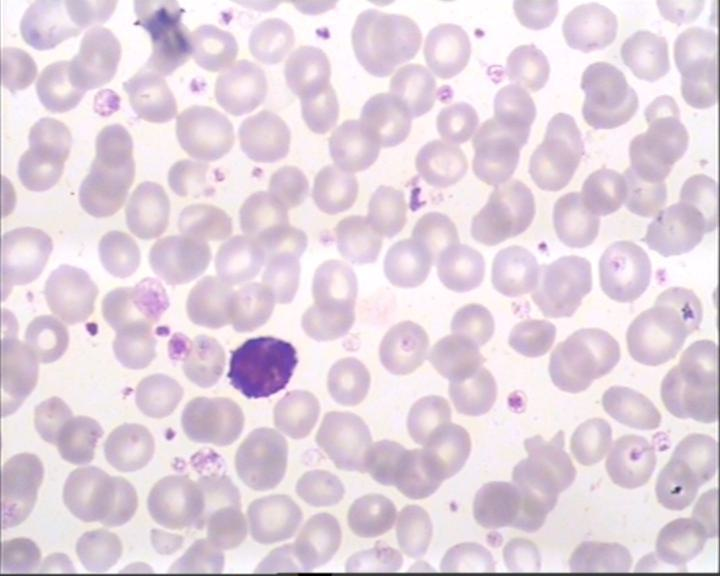baso: (222, 333, 301, 398)
